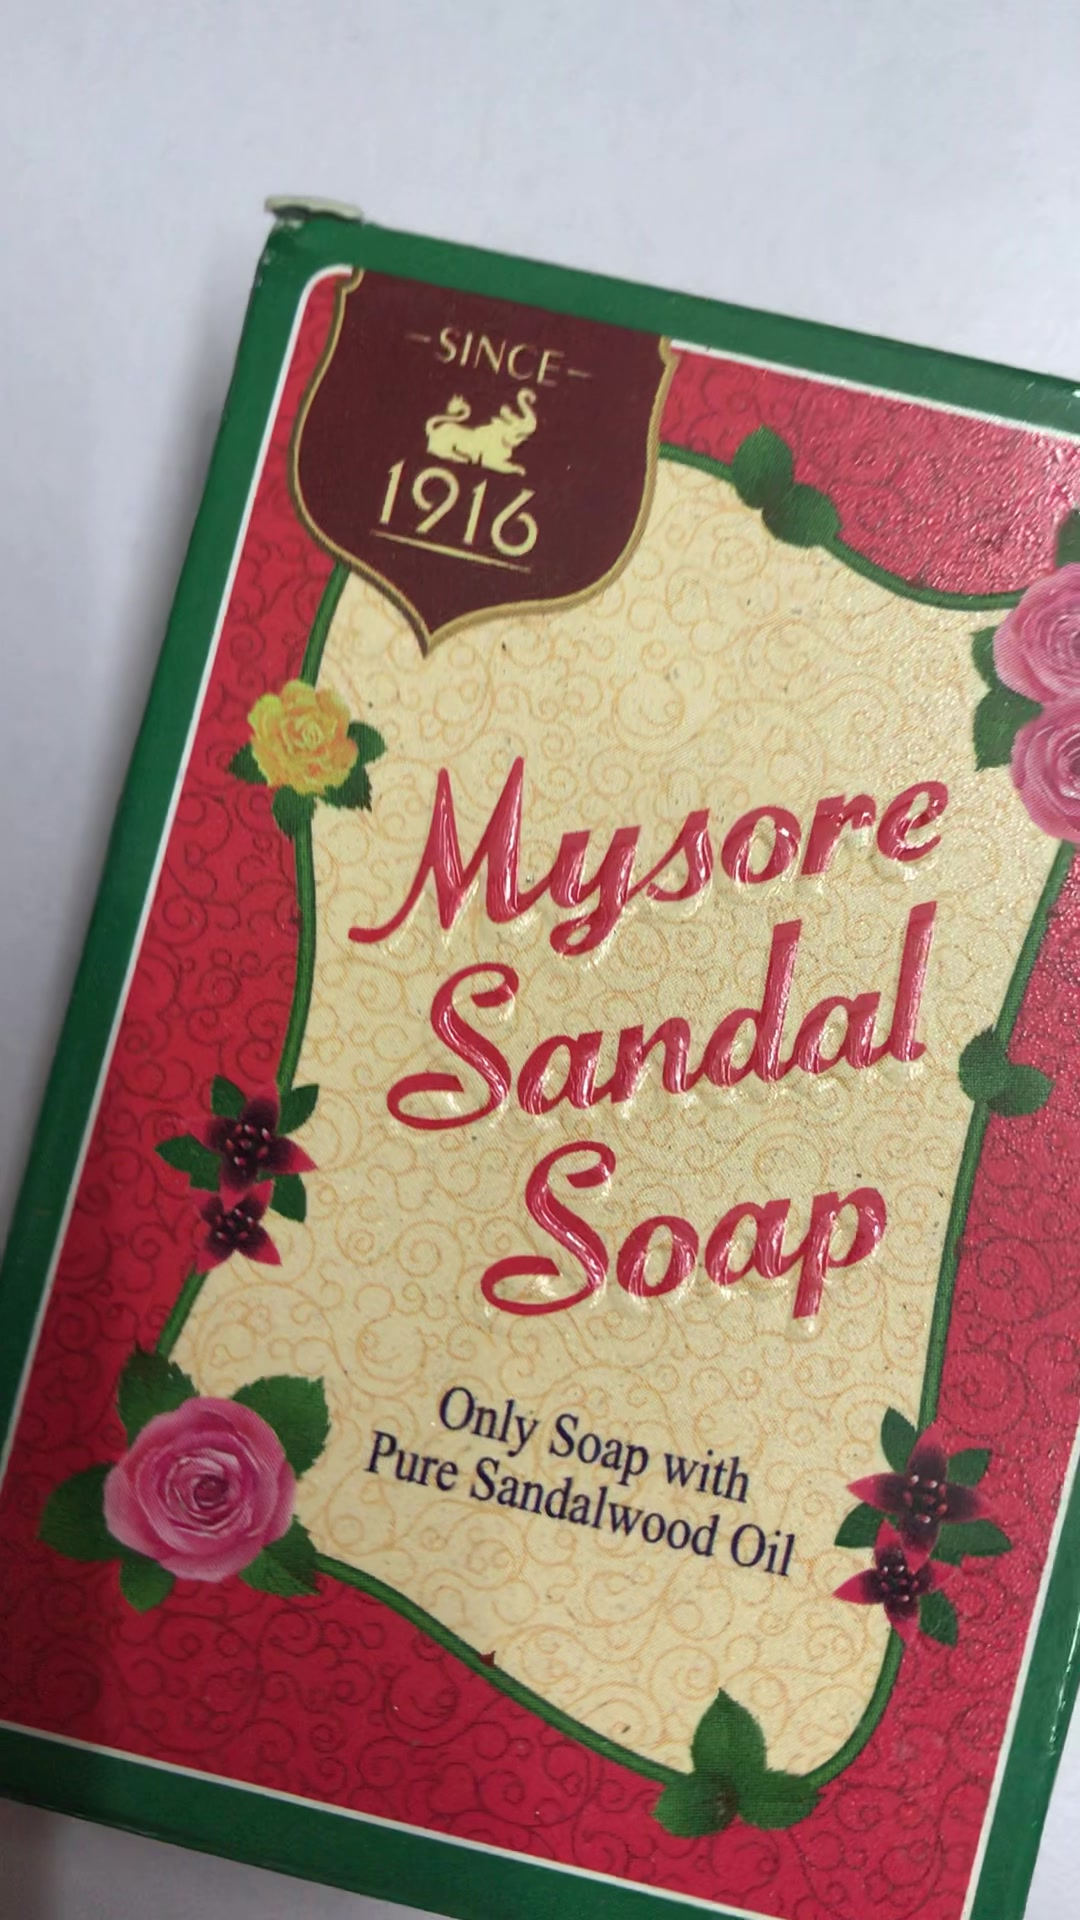mysore sandal soap: (1, 189, 1069, 1915)
